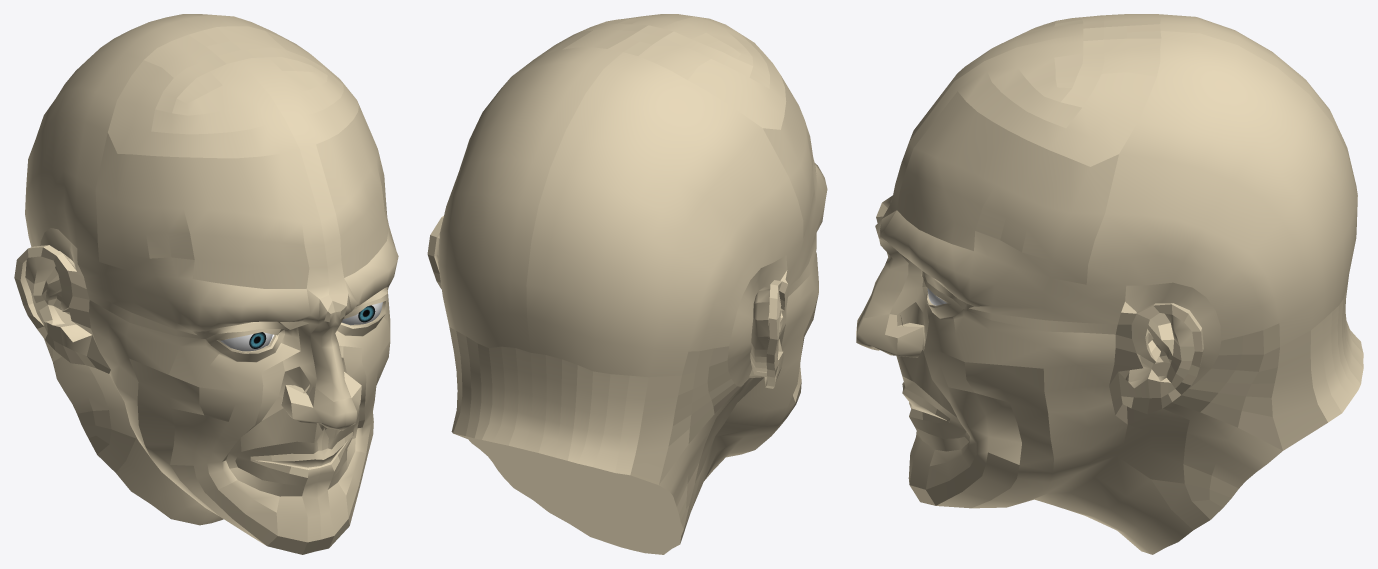
Rendered from blendshapes.glb.
3 renders of one model, left to right at view 1: azimuth 30°, elevation 25°; view 2: azimuth 150°, elevation 25°; view 3: azimuth 270°, elevation 25°, orthographic. The views are drawn at different scales.
Visible parts, largest first — view 1: Face, eye_ballleft_eye, eye_ballright_eye; view 2: Face; view 3: Face.
Boxes of the visible parts, left/top/right/bottom form: Face: left=14, top=14, right=398, bottom=554; eye_ballleft_eye: left=220, top=332, right=272, bottom=351; eye_ballright_eye: left=341, top=302, right=382, bottom=325; Face: left=427, top=14, right=827, bottom=554; Face: left=856, top=14, right=1363, bottom=554.
Size of what is drawn, in the model's own units: 0.1685 by 0.2325 by 0.2075.
2 materials, 1 textured.
